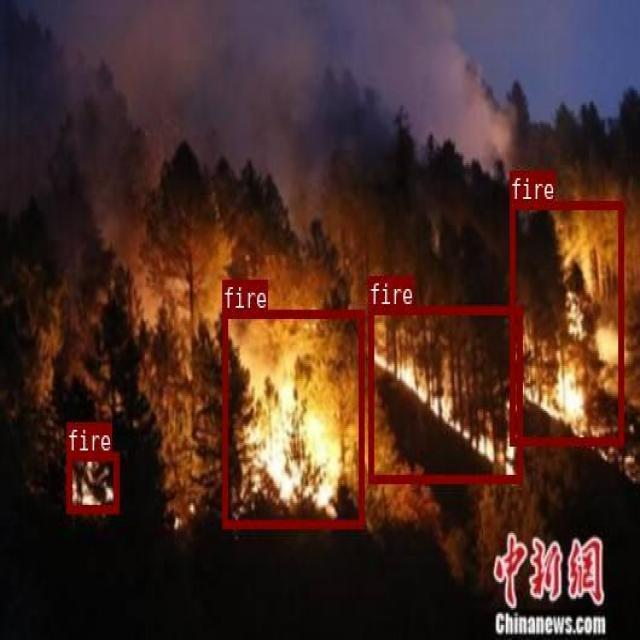fire: (221, 308, 362, 526), (509, 199, 622, 444), (368, 304, 521, 482), (66, 451, 118, 512)
